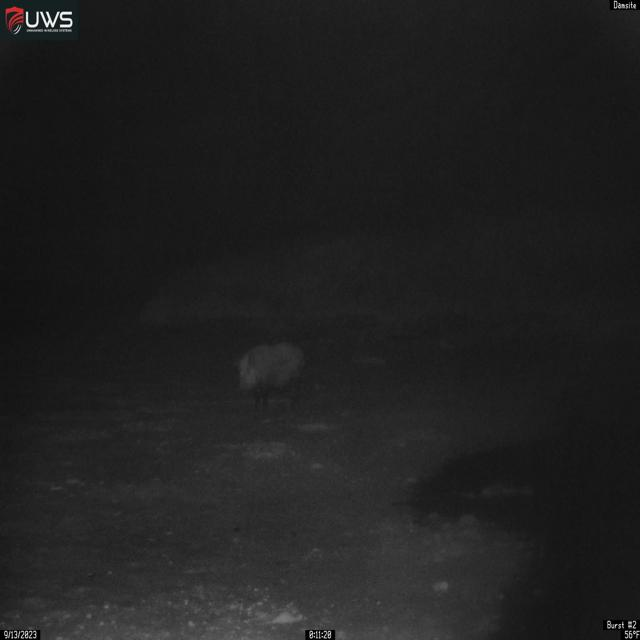pig: (236, 340, 307, 413)
